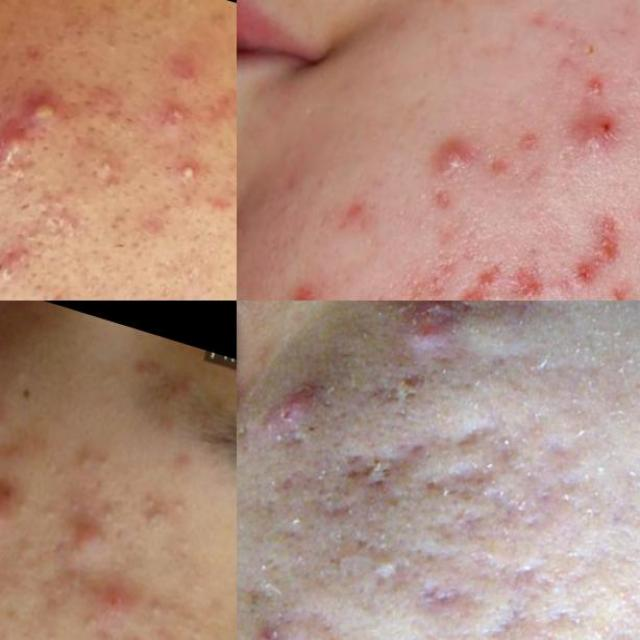8: (563, 91, 637, 165), (88, 570, 152, 640), (60, 510, 114, 573), (260, 257, 336, 301)
9: (28, 69, 82, 136), (438, 128, 496, 184), (0, 468, 33, 554), (167, 150, 210, 196), (95, 142, 132, 186)
blackheads: (376, 301, 483, 374), (563, 191, 630, 299), (272, 358, 329, 437), (424, 446, 496, 506), (342, 431, 412, 488), (415, 558, 481, 618), (504, 240, 566, 300), (300, 477, 361, 533), (412, 236, 458, 300), (510, 548, 562, 596), (464, 242, 501, 300), (458, 630, 526, 640)
dark spot: (0, 227, 47, 297), (32, 188, 98, 236), (87, 16, 130, 60)
pustules: (0, 116, 45, 178)
